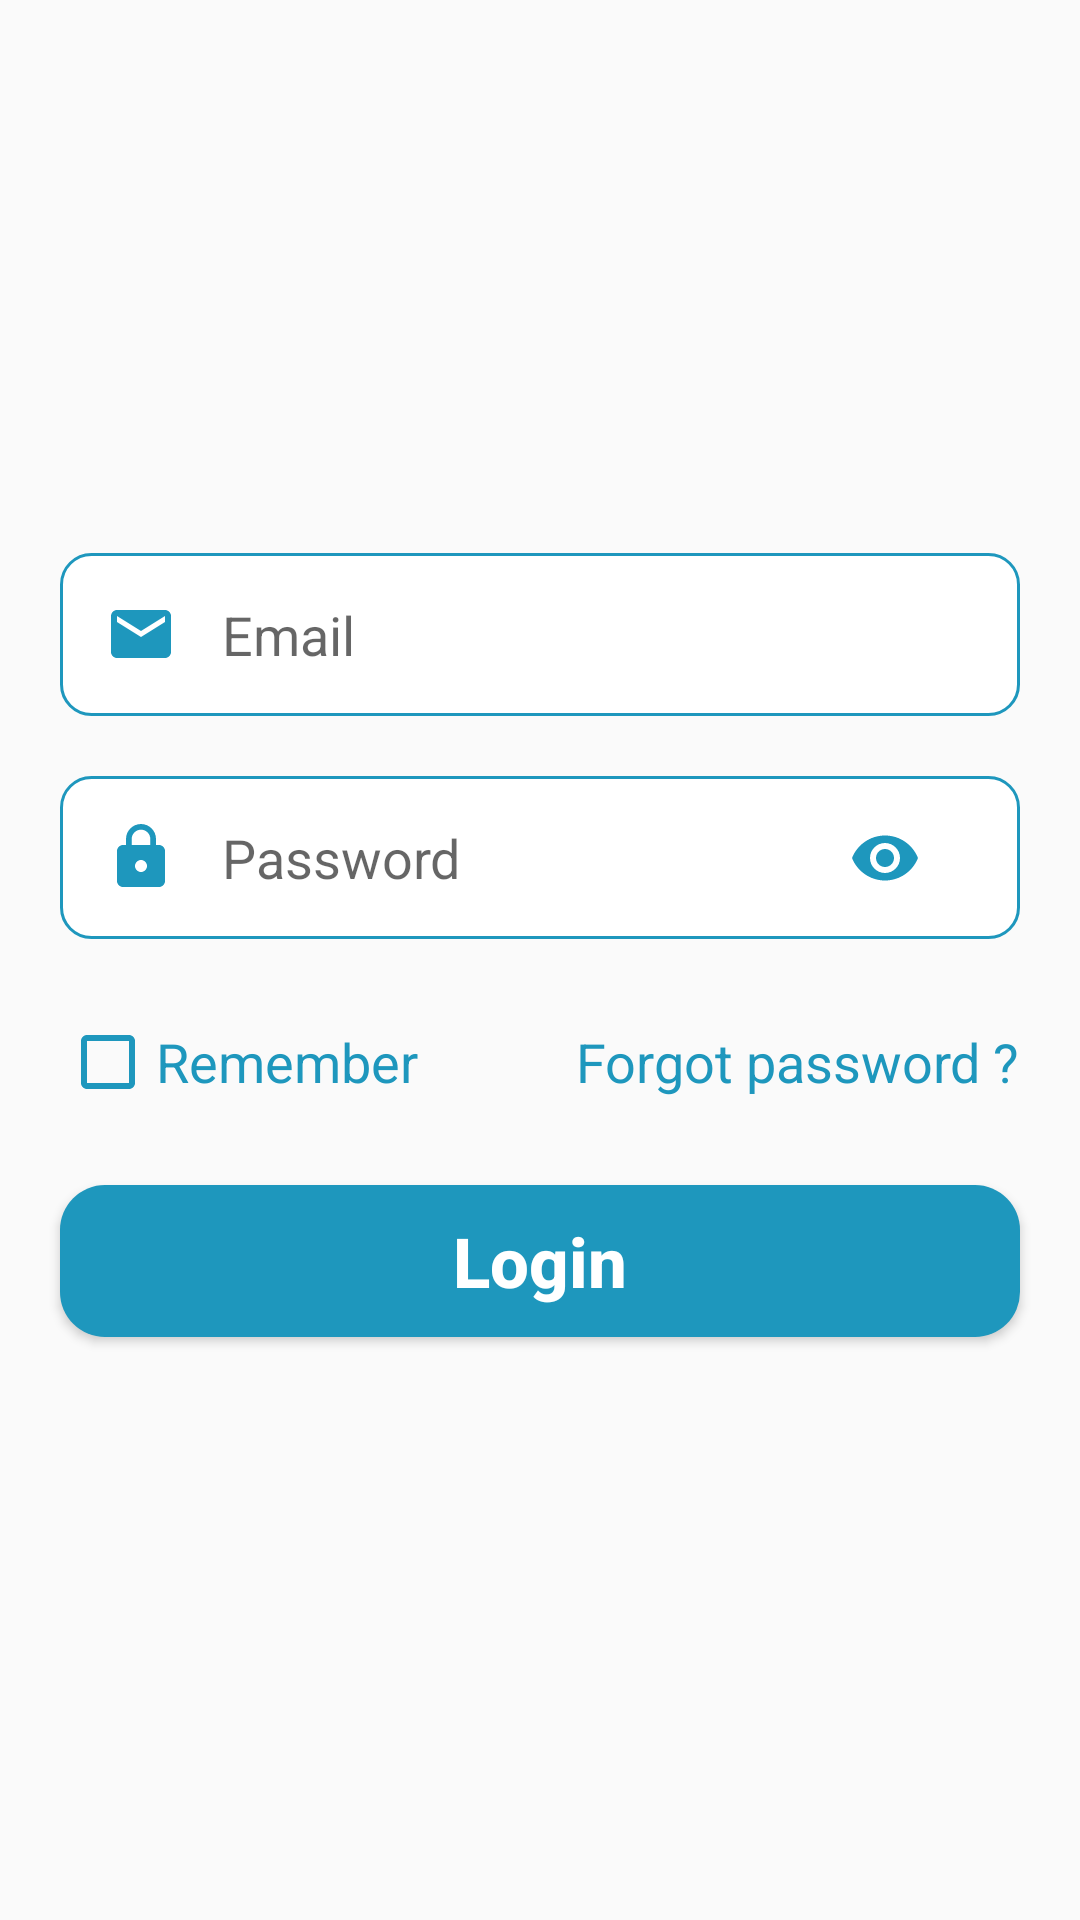

Icons on this 1080w x 1920h Android screen, each with the point to tap as (x=x, y=y):
visibility: (x=885, y=858)
